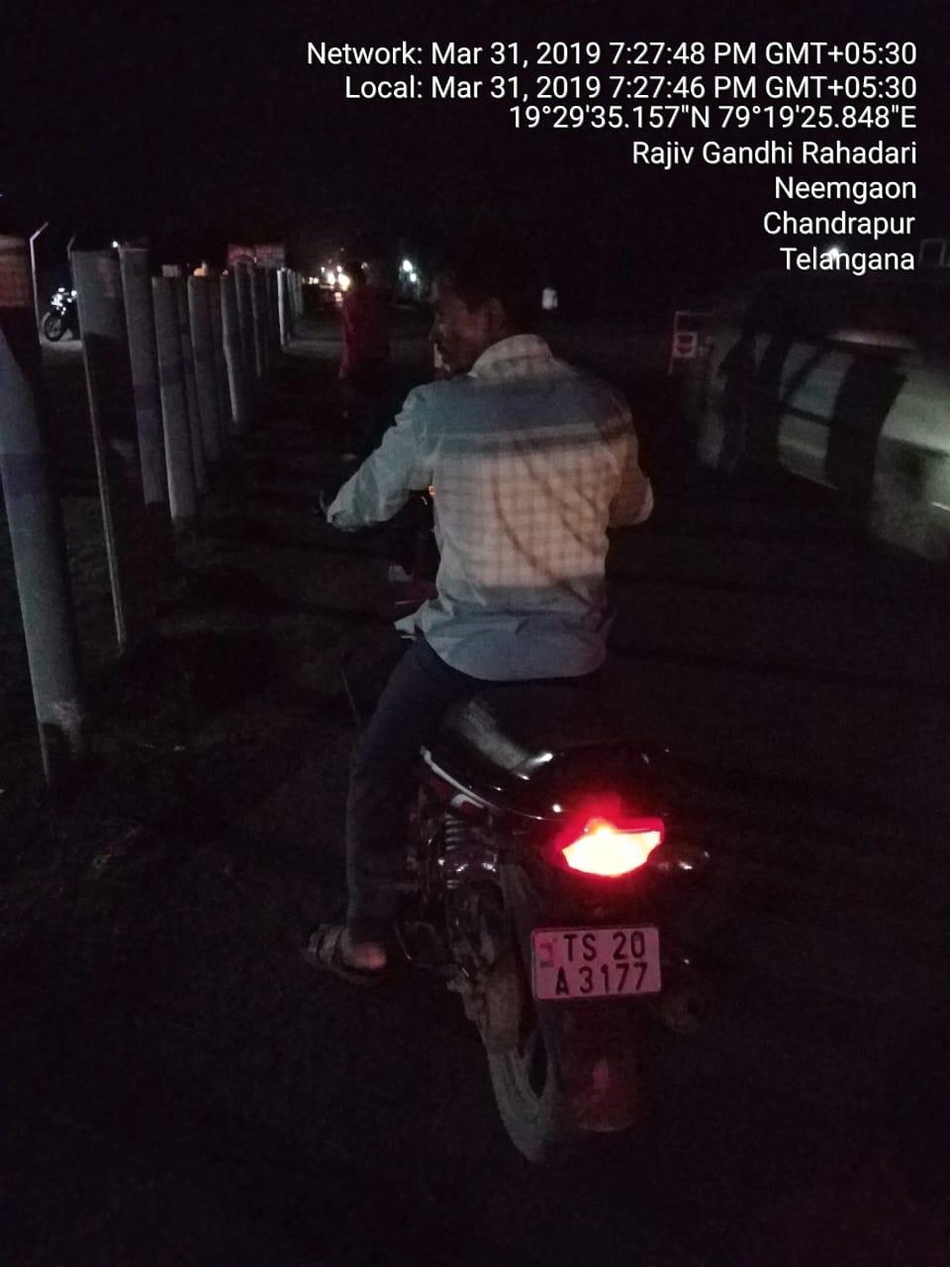plate: (500, 910, 695, 1023)
